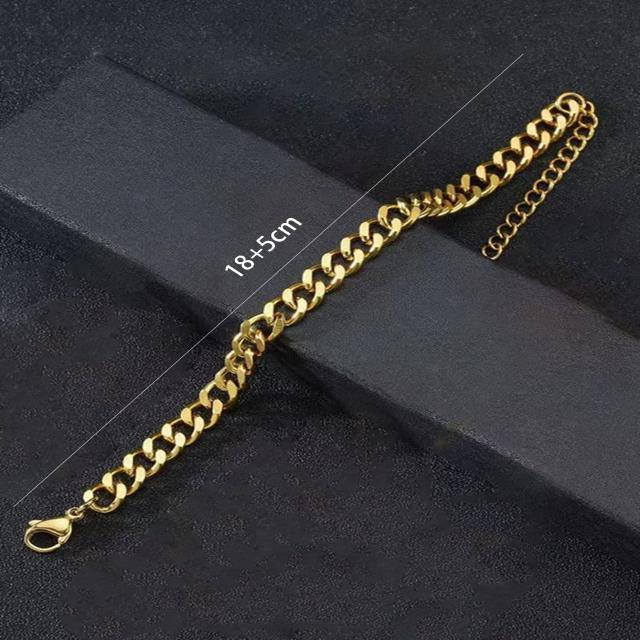bracelet: (0, 67, 640, 596)
